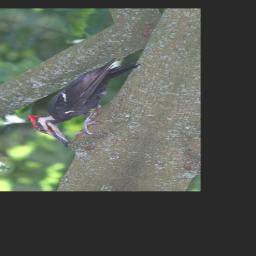Woodpecker: (16, 44, 143, 152)
